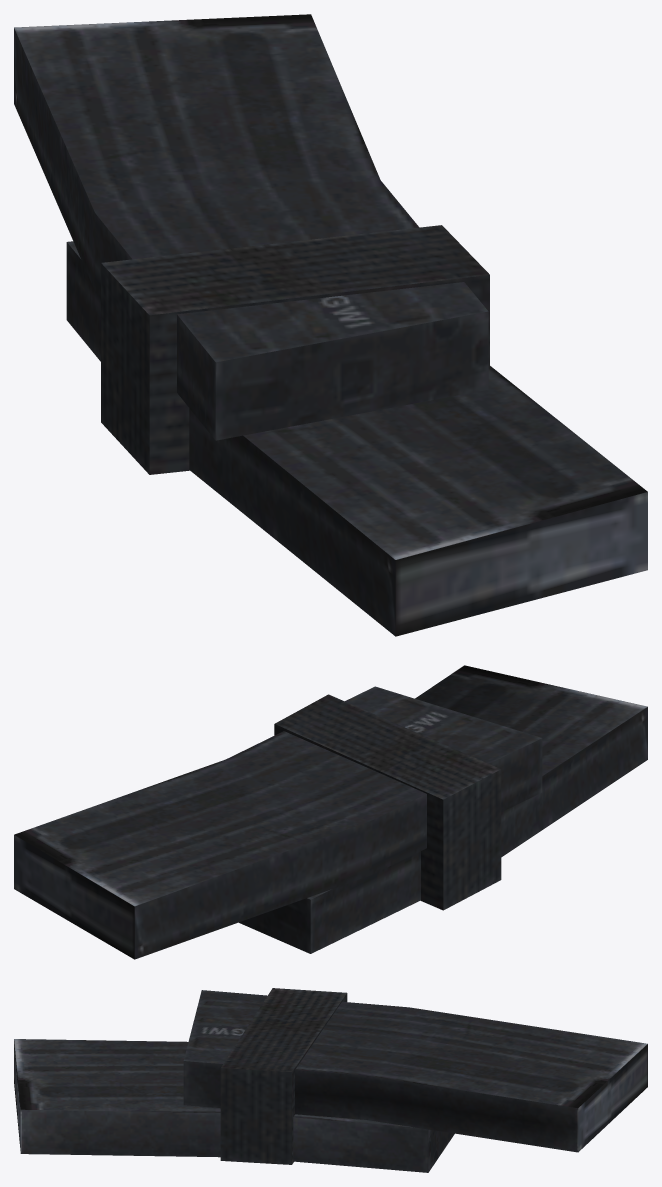
File: t6_attach_fastmag_x95l_world_LOD1.obj
3 renders of one model, top to bottom at view 1: azimuth 30°, elevation 25°; view 2: azimuth 150°, elevation 25°; view 3: azimuth 270°, elevation 25°, orthographic. The views are drawn at different scales.
Parts seen in each view (by area): view 1: mtl_t6_wpn_ar_x95l_camo1, mtl_t6_wpn_ar_x95l_camo4; view 2: mtl_t6_wpn_ar_x95l_camo1, mtl_t6_wpn_ar_x95l_camo4; view 3: mtl_t6_wpn_ar_x95l_camo1, mtl_t6_wpn_ar_x95l_camo4.
Boxes of the visible parts, x1,y1,x2,y2 form: mtl_t6_wpn_ar_x95l_camo1: (14, 14, 647, 636); mtl_t6_wpn_ar_x95l_camo4: (101, 225, 489, 474); mtl_t6_wpn_ar_x95l_camo1: (14, 665, 647, 959); mtl_t6_wpn_ar_x95l_camo4: (274, 694, 501, 910); mtl_t6_wpn_ar_x95l_camo1: (14, 990, 647, 1172); mtl_t6_wpn_ar_x95l_camo4: (220, 988, 347, 1164).
Size of the model in its own units: 12.98 by 4.72 by 29.2.
